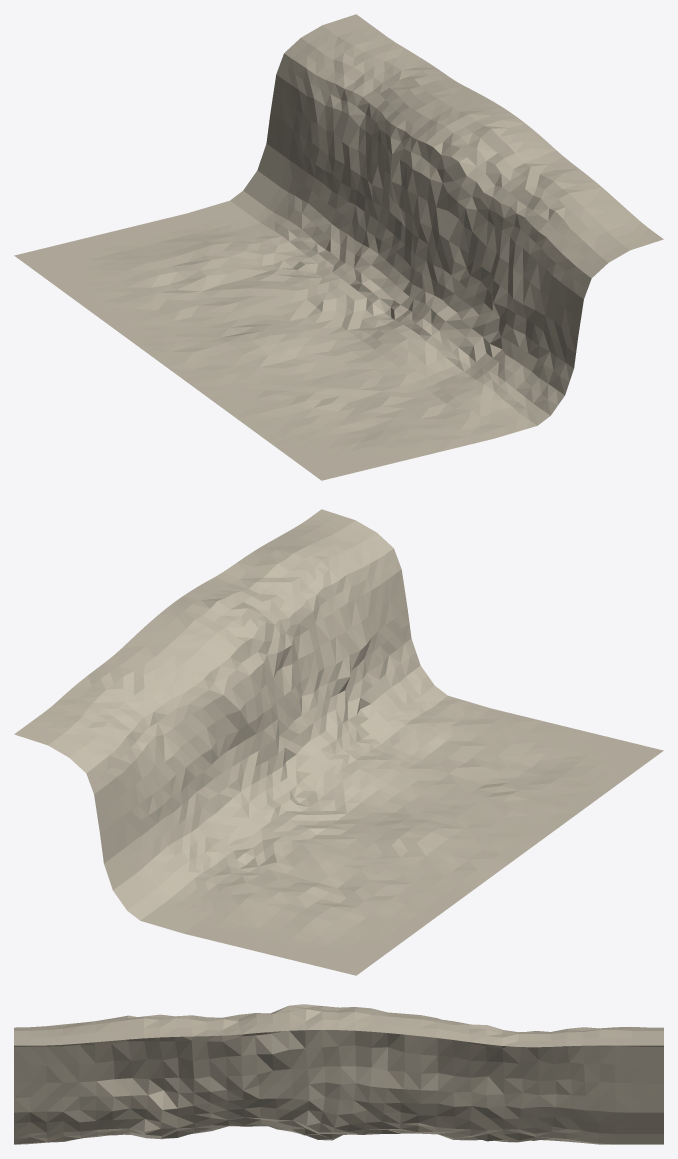
File: Ground_Mountain_m_01.fbx
The picture shows the model from 3 angles, top to bottom: view 1: azimuth 30°, elevation 25°; view 2: azimuth 150°, elevation 25°; view 3: azimuth 270°, elevation 25°; orthographic projection. The views are drawn at different scales.
Parts seen in each view (by area): view 1: Ground_Mountain_m_01; view 2: Ground_Mountain_m_01; view 3: Ground_Mountain_m_01.
Part boxes in pixels (x1=…): Ground_Mountain_m_01: x1=14, y1=14, x2=663, y2=480; Ground_Mountain_m_01: x1=14, y1=509, x2=663, y2=975; Ground_Mountain_m_01: x1=14, y1=1004, x2=663, y2=1144.
Bounding box in the file's own units: 3249 × 1611 × 5000.
